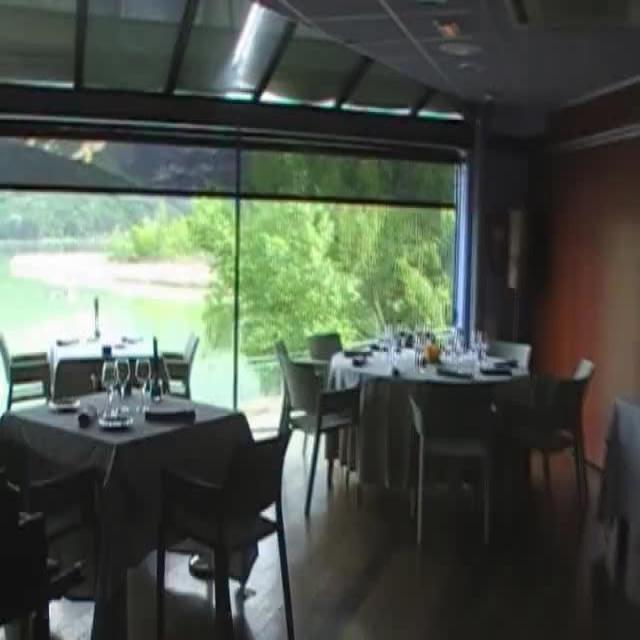other: (551, 164, 633, 392)
